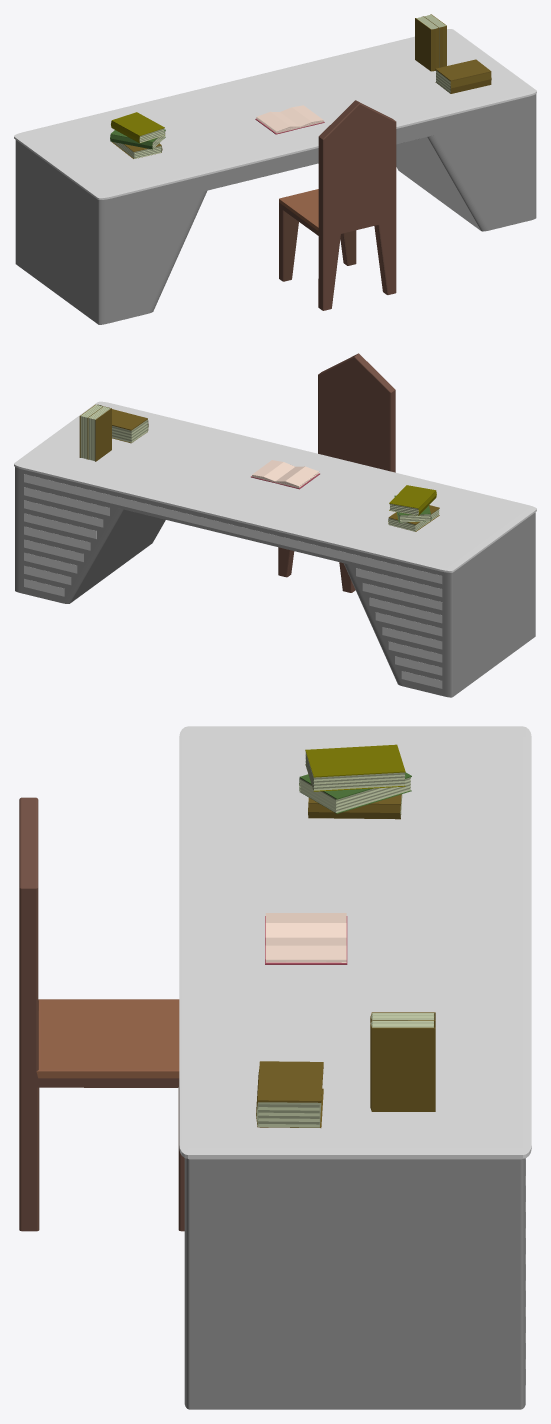
The model's file is WriterDesk.fbx.
The picture shows the model from 3 angles, top to bottom: view 1: azimuth 30°, elevation 25°; view 2: azimuth 150°, elevation 25°; view 3: azimuth 270°, elevation 25°; orthographic projection. The views are drawn at different scales.
Parts seen in each view (by area): view 1: Cube.021, Cube.003, Cube.020, kitap2.016, Cube.016, Cube.023, kitap2.004, Cube.022, kitap2.011, kitap2.010; view 2: Cube.003, Cube.021, Cube.004, Cube.020, Cube.016, kitap2.011, kitap2.004, kitap2.016, kitap2.015, kitap2.002, kitap2.003; view 3: Cube.003, Cube.021, Cube.022, Cube.020, kitap2.001, Cube.016, kitap2.016, kitap2.011, kitap2.015, kitap2.009, kitap2.012, kitap2.007.
Part boxes in pixels (x1,y1,x2,y2): Cube.021: (15,94,536,324); Cube.003: (14,29,536,199); Cube.020: (279,100,396,310); kitap2.016: (435,59,491,93); Cube.016: (256,105,323,133); Cube.023: (284,211,355,281); kitap2.004: (415,16,438,71); Cube.022: (279,189,318,230); kitap2.011: (111,112,164,143); kitap2.010: (110,129,165,149); Cube.003: (14,401,536,572); Cube.021: (15,467,535,697); Cube.004: (24,474,442,688); Cube.020: (278,353,395,592); Cube.016: (252,460,318,488); kitap2.011: (389,485,436,515); kitap2.004: (88,406,111,461); kitap2.016: (112,409,148,443); kitap2.015: (112,419,148,442); kitap2.002: (80,404,102,459); kitap2.003: (88,406,110,460); Cube.003: (179,726,531,1158); Cube.021: (184,1158,525,1409); Cube.022: (36,999,179,1078); Cube.020: (19,797,184,1231); kitap2.001: (370,1020,435,1111); Cube.016: (265,913,346,962); kitap2.016: (256,1061,323,1127); kitap2.011: (305,744,405,791); kitap2.015: (256,1102,321,1127); kitap2.009: (299,777,410,812); kitap2.012: (305,752,405,790); kitap2.007: (308,794,401,819).
Bounding box in the file's own units: 494 × 424 × 977.
